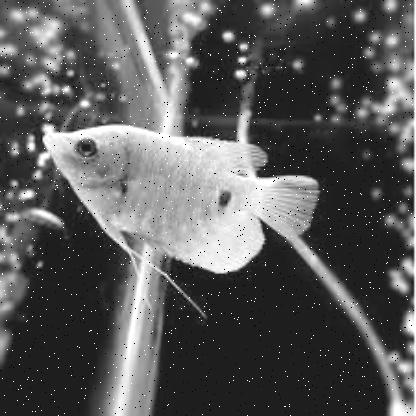gurame: (40, 118, 316, 280)
